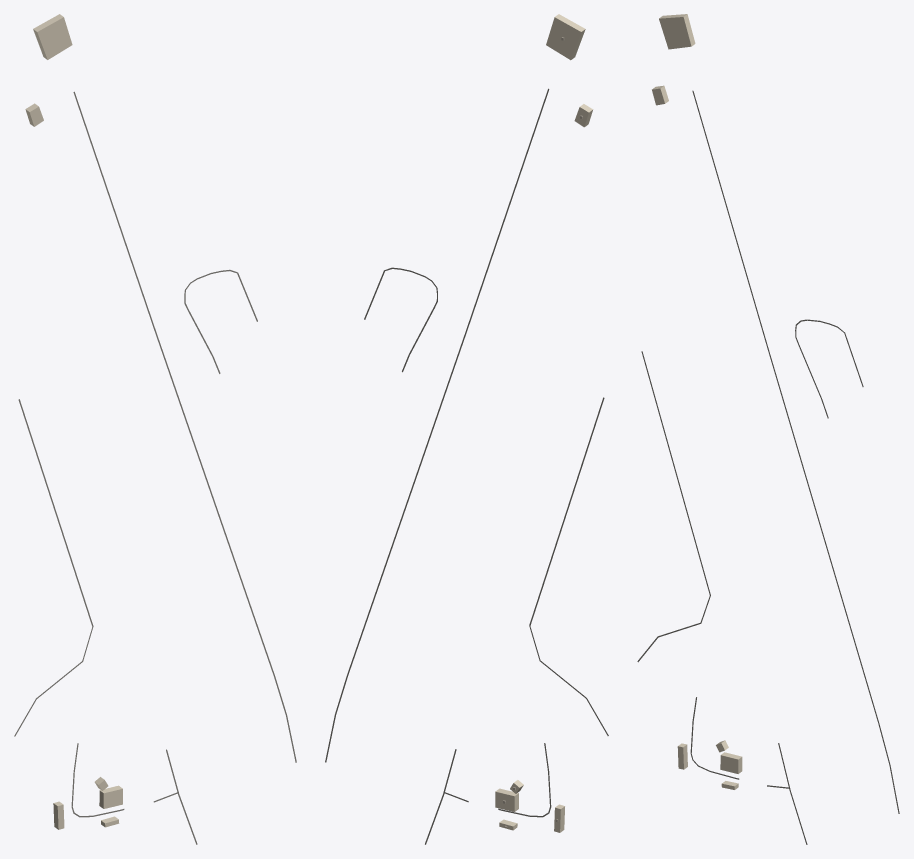
File: historic-palestine-01_18_3426_3121.glb
3 views of the same model, side by side, from view 1: azimuth 30°, elevation 25°; view 2: azimuth 150°, elevation 25°; view 3: azimuth 330°, elevation 25° (orthographic). The views are drawn at different scales.
Parts seen in each view (by area): view 1: Road, Building_.004, Road .001; view 2: Road, Building_.004, Road .001; view 3: Road, Building_.004, Road .001.
Boxes of the visible parts, bbox=[...] form: Road: bbox=[73, 91, 296, 762]; Building_.004: bbox=[33, 14, 72, 59]; Road .001: bbox=[14, 399, 93, 736]; Road: bbox=[325, 88, 549, 762]; Building_.004: bbox=[546, 14, 585, 60]; Road .001: bbox=[529, 397, 608, 735]; Road: bbox=[692, 90, 899, 813]; Building_.004: bbox=[659, 14, 695, 49]; Road .001: bbox=[637, 351, 710, 662].
Bounding box in the file's own units: 287 × 833 × 8.7.
